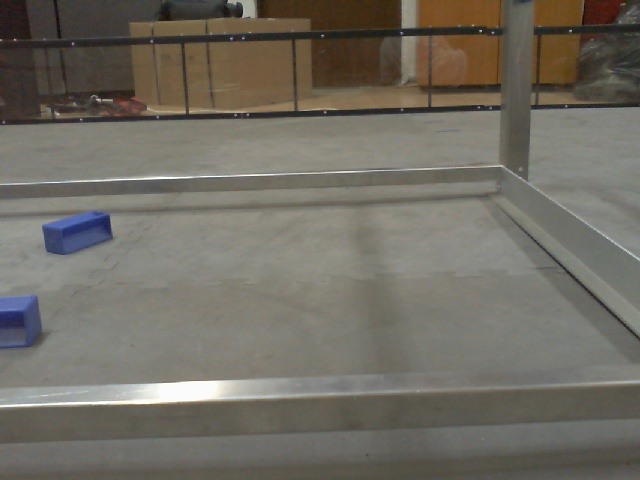BlueSample: (36, 209, 115, 257), (1, 292, 49, 347)
